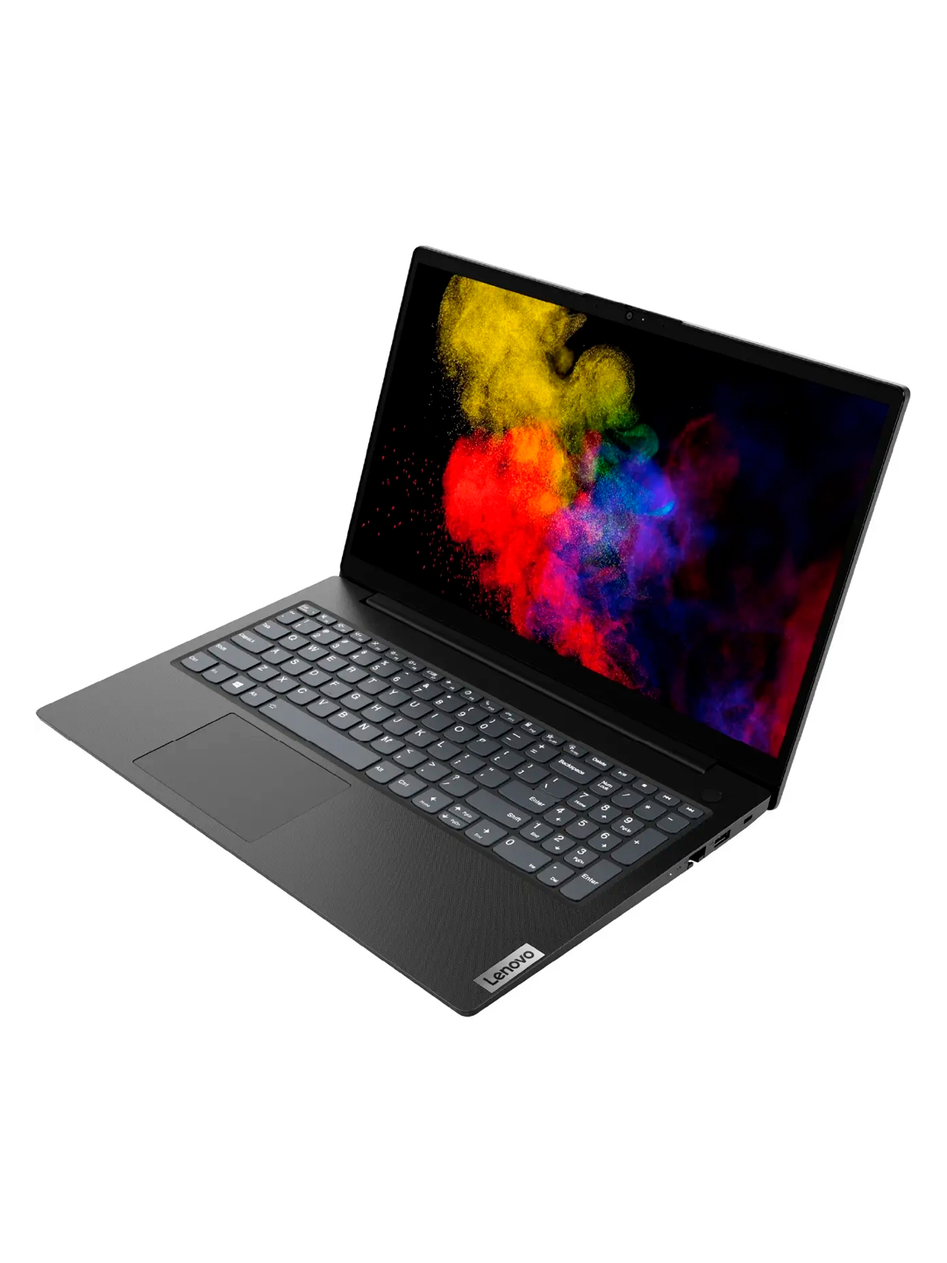laptop: (31, 239, 913, 1022)
